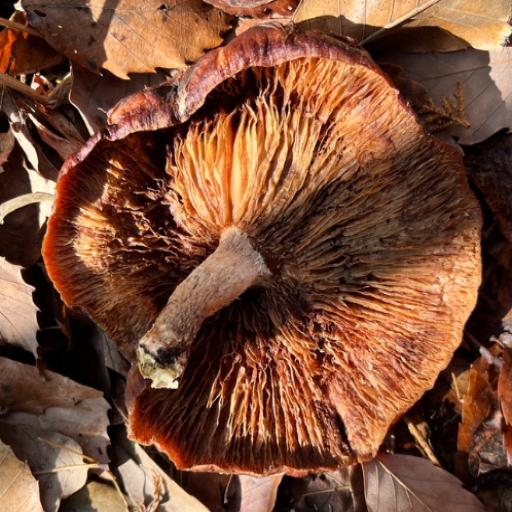Shiitake Mushroom: (30, 0, 512, 512)
